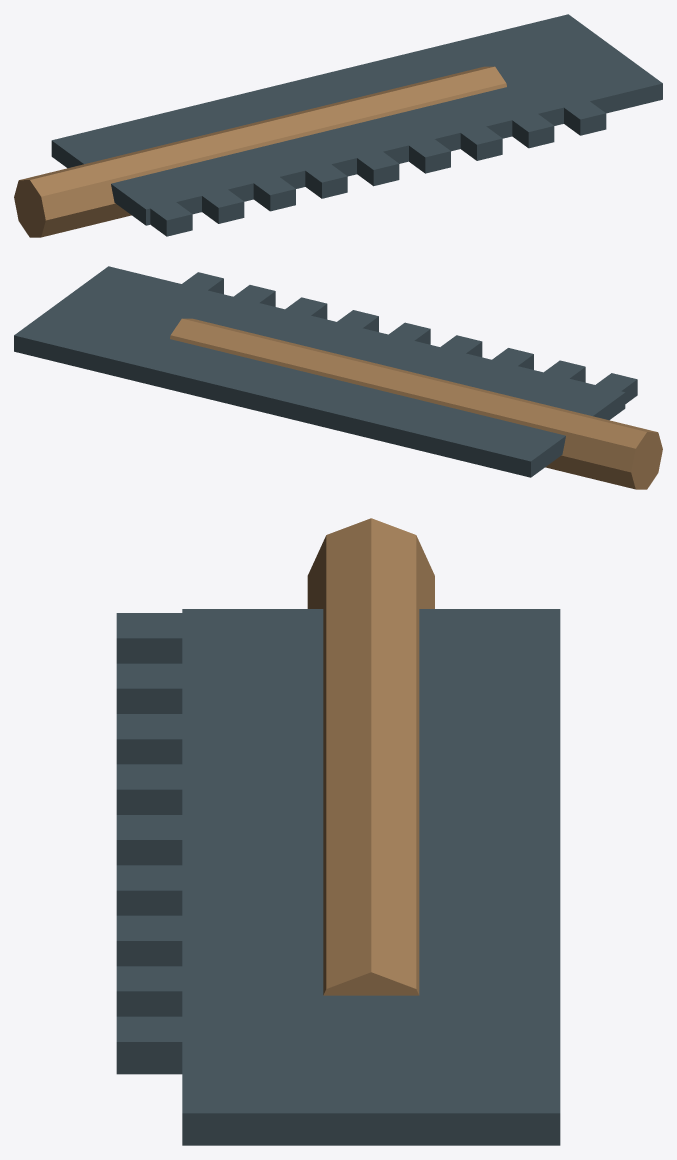
Rendered from set_potting_scoop.glb.
The picture shows the model from 3 angles, top to bottom: view 1: azimuth 30°, elevation 25°; view 2: azimuth 150°, elevation 25°; view 3: azimuth 270°, elevation 25°; orthographic projection. The views are drawn at different scales.
Visible parts, largest first — view 1: set_potting_scoop; view 2: set_potting_scoop; view 3: set_potting_scoop.
Part boxes in pixels (x1,y1,x2,y2): set_potting_scoop: [14, 14, 662, 237]; set_potting_scoop: [14, 266, 662, 489]; set_potting_scoop: [116, 518, 560, 1145].
Size of the model in its own units: 0.34 by 0.032 by 0.1115.
